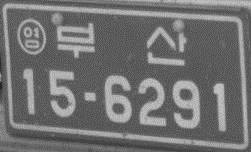-: (81, 89, 98, 102)
1: (210, 80, 231, 134), (20, 66, 39, 116)
2: (136, 77, 168, 127)
5: (46, 67, 77, 118)
6: (102, 73, 133, 123)
9: (170, 78, 202, 130)
부산_D: (53, 17, 188, 67)
영: (15, 17, 47, 55)
